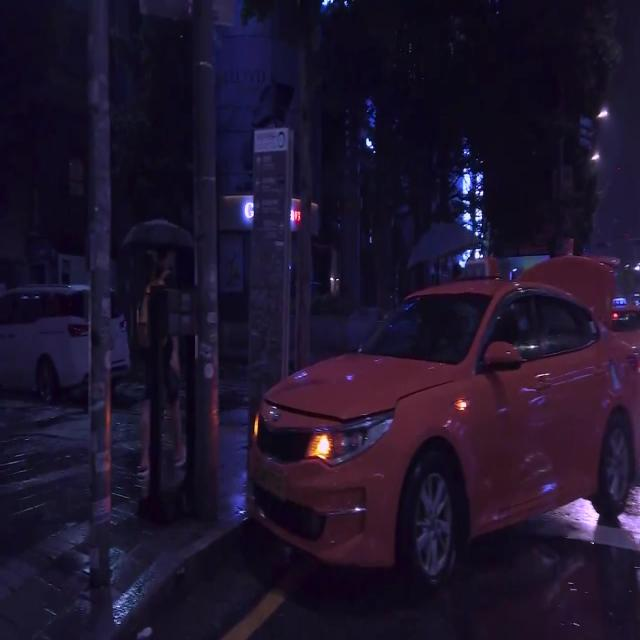Car: (251, 285, 636, 575)
